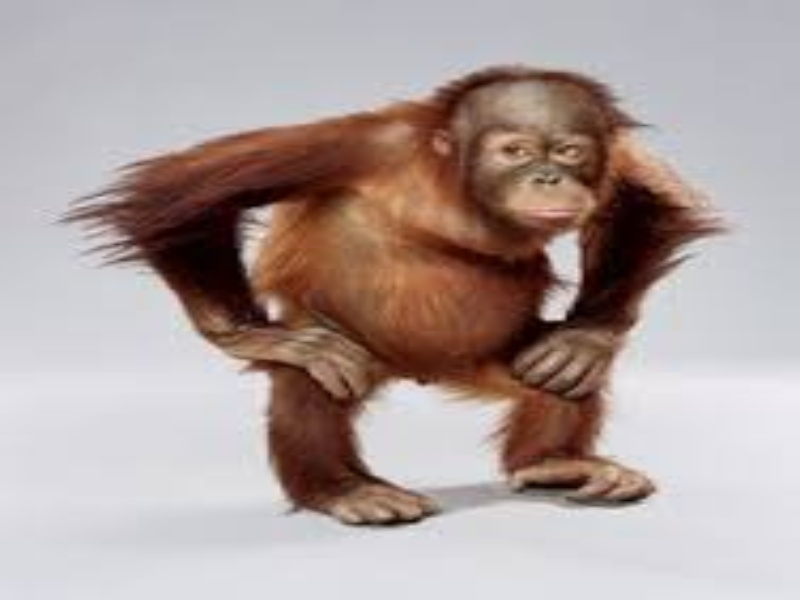monkey: (78, 58, 738, 530)
